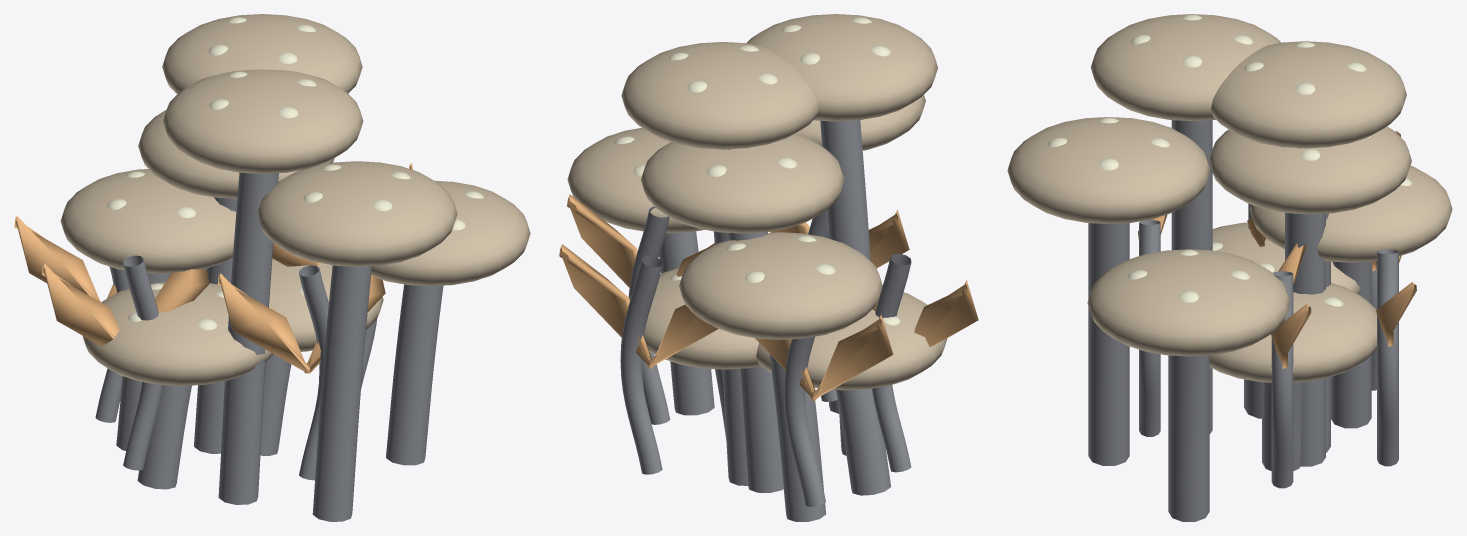
File: bio_spore_fungus_12_near.glb
3 views of the same model, side by side, from view 1: azimuth 30°, elevation 25°; view 2: azimuth 150°, elevation 25°; view 3: azimuth 270°, elevation 25° (orthographic).
Parts seen in each view (by area): view 1: Thick umbrella cap.002, Thick umbrella cap.007, Thick umbrella cap.001, Thick umbrella cap.004, Curved stipe.002, Thick umbrella cap.003, Curved stipe.007, Thick umbrella cap.005, Curved stipe.005, Secondary fan lobe.008, Secondary fan lobe.004, Thick umbrella cap.006 (+9 smaller); view 2: Thick umbrella cap.001, Thick umbrella cap.003, Thick umbrella cap.006, Thick umbrella cap.007, Thick umbrella cap.005, Thick umbrella cap.004, Branching support.003, Secondary fan lobe.006, Curved stipe.007, Curved stipe.006, Thick umbrella cap, Curved stipe.004 (+15 smaller); view 3: Thick umbrella cap.005, Thick umbrella cap.002, Thick umbrella cap.003, Thick umbrella cap.007, Thick umbrella cap.006, Thick umbrella cap.001, Thick umbrella cap, Curved stipe.002, Curved stipe.005, Curved stipe.003, Branching support.003, Branching support (+13 smaller).
Part boxes in pixels (x1,y1,x2,y2): Thick umbrella cap.002: [257, 161, 457, 266]; Thick umbrella cap.007: [163, 69, 363, 173]; Thick umbrella cap.001: [60, 169, 236, 273]; Thick umbrella cap.004: [82, 281, 273, 385]; Curved stipe.002: [312, 265, 371, 521]; Thick umbrella cap.003: [162, 14, 362, 94]; Curved stipe.007: [218, 172, 278, 504]; Thick umbrella cap.005: [371, 180, 530, 286]; Curved stipe.005: [386, 284, 443, 465]; Secondary fan lobe.008: [42, 264, 209, 346]; Secondary fan lobe.004: [218, 273, 385, 373]; Thick umbrella cap.006: [138, 110, 334, 198]; Thick umbrella cap.001: [679, 232, 882, 339]; Thick umbrella cap.003: [621, 42, 818, 149]; Thick umbrella cap.006: [641, 133, 844, 233]; Thick umbrella cap.007: [746, 14, 937, 121]; Thick umbrella cap.005: [567, 128, 704, 233]; Thick umbrella cap.004: [756, 292, 947, 390]; Branching support.003: [620, 256, 662, 474]; Secondary fan lobe.006: [559, 244, 717, 368]; Curved stipe.007: [820, 120, 870, 455]; Curved stipe.006: [728, 232, 783, 492]; Thick umbrella cap: [629, 267, 760, 369]; Curved stipe.004: [836, 388, 891, 495]; Thick umbrella cap.005: [1087, 249, 1290, 356]; Thick umbrella cap.002: [1007, 117, 1210, 223]; Thick umbrella cap.003: [1211, 41, 1406, 148]; Thick umbrella cap.007: [1090, 14, 1280, 121]; Thick umbrella cap.006: [1209, 126, 1411, 214]; Thick umbrella cap.001: [1249, 165, 1452, 262]; Thick umbrella cap: [1209, 282, 1376, 382]; Curved stipe.002: [1088, 223, 1129, 465]; Curved stipe.005: [1168, 355, 1209, 521]; Curved stipe.003: [1285, 148, 1325, 466]; Branching support.003: [1377, 249, 1398, 466]; Branching support: [1271, 271, 1293, 488].
Size of the model in its own units: 2.07 by 1.87 by 1.84.
